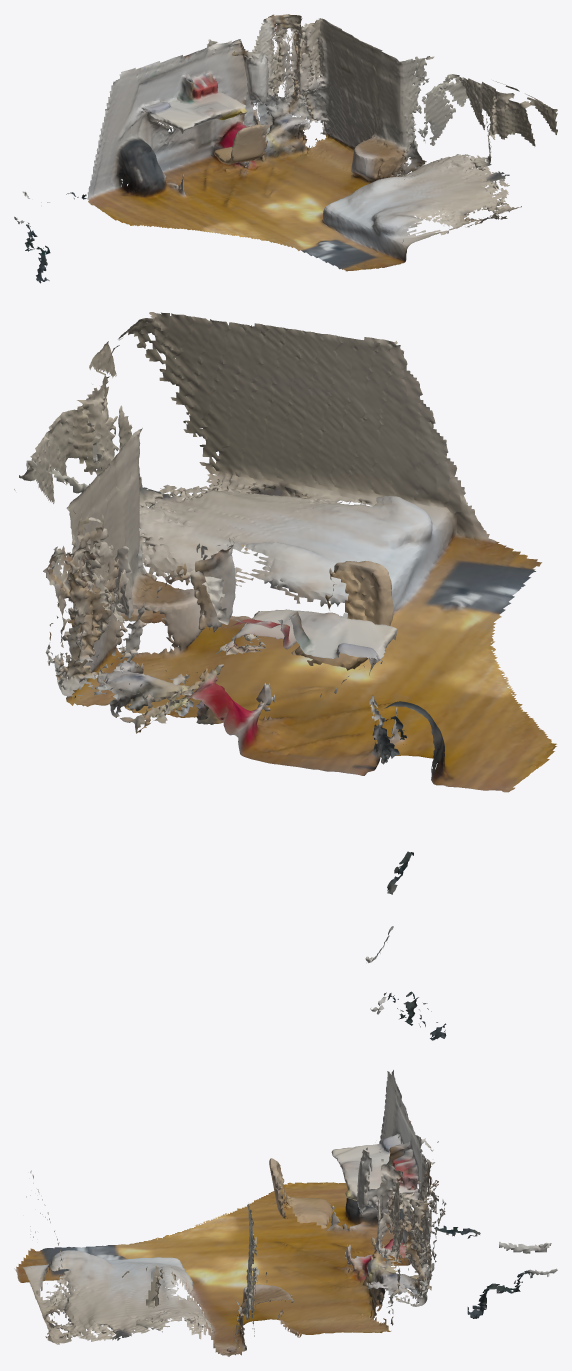
File: scan-2f40ab387a78.glb
3 views of the same model, one above another, from view 1: azimuth 30°, elevation 25°; view 2: azimuth 150°, elevation 25°; view 3: azimuth 270°, elevation 25° (orthographic). The views are drawn at different scales.
Size of the model in its own units: 4.22 by 2.58 by 4.53.
